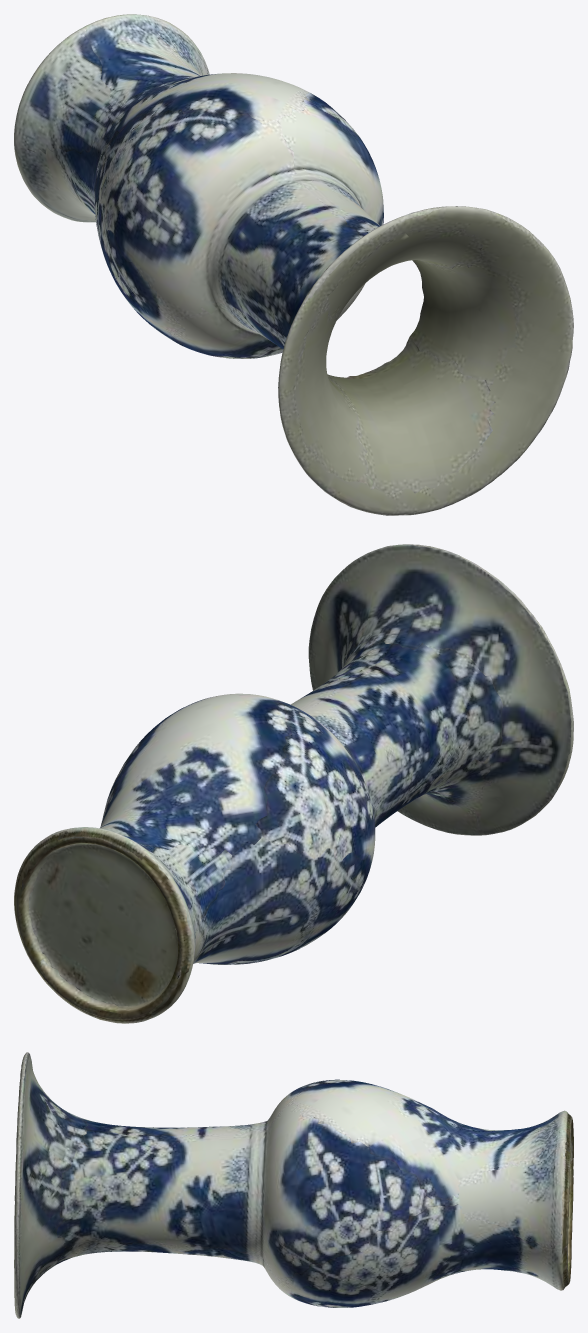
The model's file is vase-20k-512-thumb.glb.
3 renders of one model, top to bottom at view 1: azimuth 30°, elevation 25°; view 2: azimuth 150°, elevation 25°; view 3: azimuth 270°, elevation 25°, orthographic. The views are drawn at different scales.
Bounding box in the file's own units: 0.2218 × 0.2215 × 0.4641.
Materials: 1 (1 with a texture image).
